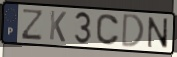3: (72, 10, 93, 46)
C: (95, 13, 121, 47)
D: (120, 13, 146, 49)
K: (48, 9, 68, 44)
N: (147, 16, 169, 51)
Z: (20, 8, 45, 41)
